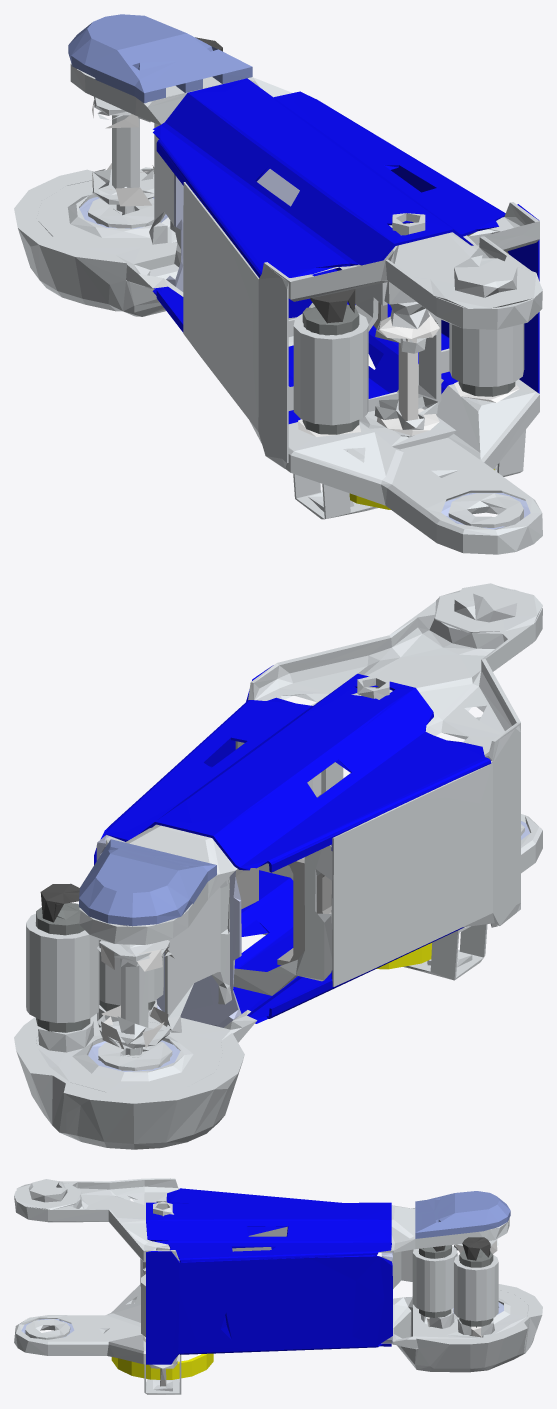
File: RLEG_LINK2_mesh.dae
3 renders of one model, top to bottom at view 1: azimuth 30°, elevation 25°; view 2: azimuth 150°, elevation 25°; view 3: azimuth 270°, elevation 25°, orthographic. The views are drawn at different scales.
Parts seen in each view (by area): view 1: RLEG_LINK2 (×19); view 2: RLEG_LINK2 (×19); view 3: RLEG_LINK2 (×18).
Part boxes in pixels (x1,y1,x2,y2): RLEG_LINK2 (×19): [14, 14, 542, 554]; RLEG_LINK2 (×19): [14, 583, 542, 1149]; RLEG_LINK2 (×18): [14, 1178, 542, 1394].
Bounding box in the file's own units: 0.1541 × 0.1745 × 0.4692.
